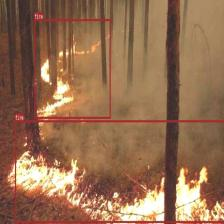fire: (14, 119, 224, 222), (34, 19, 111, 119)
